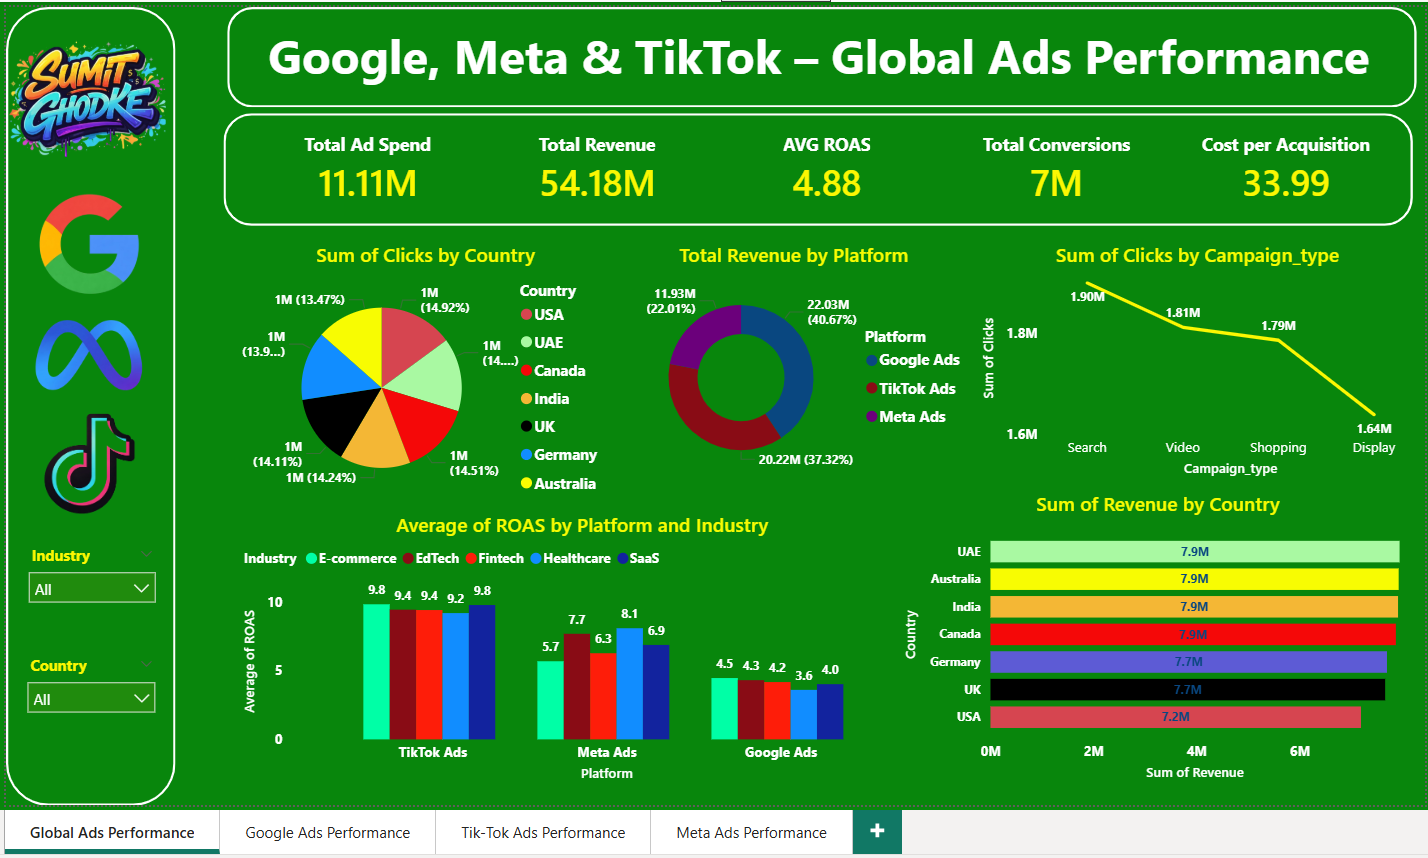

What the dashboard file says about the page in this screenshot:
{"tool":"powerbi","page":{"name":"Global Ads Performance","canvas":[1280,720],"ordinal":0},"visuals":[{"type":"shape","box":[199.3,0,1072.4,90.5],"z":0},{"type":"shape","box":[0,0,152.9,720.2],"z":1000},{"type":"textbox","box":[209.1,8.6,1046.7,163.9],"z":2000},{"type":"cardVisual","fields":{"Data":["Google Ads.Total Ad Spend","Google Ads.Total Revenue","Google Ads.True ROAS","Google Ads.Total Conversions","Google Ads.Cost per Acquisition"]},"box":[209.1,90.5,1063.9,110.1],"z":3000},{"type":"shape","box":[195.7,95.4,1072.4,101.5],"z":4000},{"type":"pieChart","fields":{"Category":["global_ads_performance_dataset.Country"],"Y":["global_ads_performance_dataset.Clicks"]},"box":[209.1,211.6,337.5,240.9],"z":5000},{"type":"clusteredBarChart","fields":{"Category":["global_ads_performance_dataset.Country"],"Y":["global_ads_performance_dataset.Revenue"]},"box":[805.8,436.6,465.9,266.6],"z":6000},{"type":"donutChart","fields":{"Category":["global_ads_performance_dataset.Platform"],"Y":["Google Ads.Total Revenue"]},"box":[546.6,211.6,327.7,222.6],"z":7000},{"type":"lineClusteredColumnComboChart","fields":{"Category":["global_ads_performance_dataset.Platform"],"Series":["global_ads_performance_dataset.Industry"],"Y":["global_ads_performance_dataset.ROAS"]},"box":[209.1,454.9,620,248.2],"z":8000},{"type":"lineChart","fields":{"Category":["global_ads_performance_dataset.Campaign_type"],"Y":["global_ads_performance_dataset.Clicks"]},"box":[875.5,211.6,397.4,216.4],"z":9000},{"type":"slicer","fields":{"Values":["global_ads_performance_dataset.Industry"]},"box":[9.8,480.6,134.5,68.5],"z":10000},{"type":"slicer","fields":{"Values":["global_ads_performance_dataset.Country"]},"box":[8.6,579.6,135.7,69.7],"z":11000},{"type":"image","box":[0,0,144.3,161.4],"z":12000},{"type":"image","box":[25.7,161.4,99,100.3],"z":13000},{"type":"image","box":[25.7,261.7,99,100.3],"z":14000},{"type":"image","box":[25.7,362,99,100.3],"z":15000}]}

Visuals, with their boxes on the page's 1280x720 design canvas (x1, y1, x2, y2). These are canvas units, not pixel positions in the 1428x858 screenshot, which may show the page scaled, cropped or inside an application window:
shape: pyautogui.locateOnScreen(199, 0, 1272, 90)
shape: pyautogui.locateOnScreen(0, 0, 153, 720)
textbox: pyautogui.locateOnScreen(209, 9, 1256, 172)
cardVisual - Google Ads.Total Ad Spend x Google Ads.Total Revenue: pyautogui.locateOnScreen(209, 90, 1273, 201)
shape: pyautogui.locateOnScreen(196, 95, 1268, 197)
pieChart - global_ads_performance_dataset.Country x global_ads_performance_dataset.Clicks: pyautogui.locateOnScreen(209, 212, 547, 452)
clusteredBarChart - global_ads_performance_dataset.Country x global_ads_performance_dataset.Revenue: pyautogui.locateOnScreen(806, 437, 1272, 703)
donutChart - global_ads_performance_dataset.Platform x Google Ads.Total Revenue: pyautogui.locateOnScreen(547, 212, 874, 434)
lineClusteredColumnComboChart - global_ads_performance_dataset.Platform x global_ads_performance_dataset.Industry: pyautogui.locateOnScreen(209, 455, 829, 703)
lineChart - global_ads_performance_dataset.Campaign_type x global_ads_performance_dataset.Clicks: pyautogui.locateOnScreen(876, 212, 1273, 428)
slicer - global_ads_performance_dataset.Industry: pyautogui.locateOnScreen(10, 481, 144, 549)
slicer - global_ads_performance_dataset.Country: pyautogui.locateOnScreen(9, 580, 144, 649)
image: pyautogui.locateOnScreen(0, 0, 144, 161)
image: pyautogui.locateOnScreen(26, 161, 125, 262)
image: pyautogui.locateOnScreen(26, 262, 125, 362)
image: pyautogui.locateOnScreen(26, 362, 125, 462)
